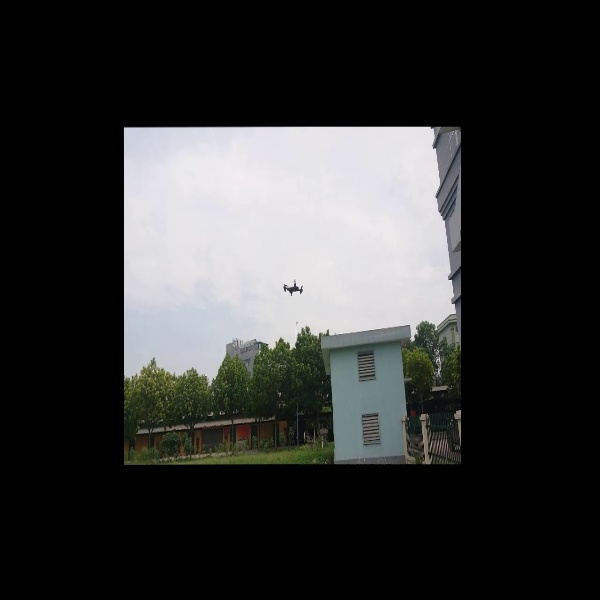drone: (280, 275, 309, 298)
